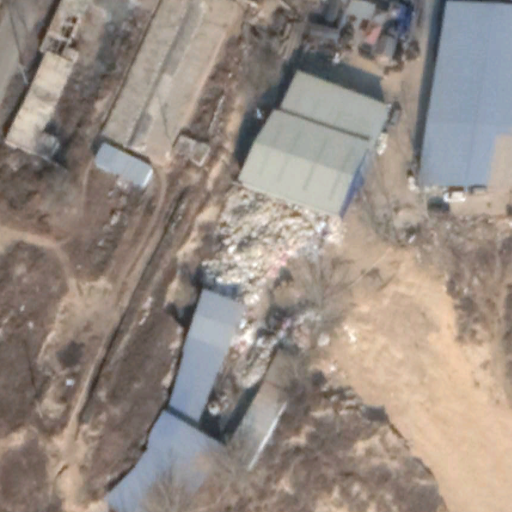msw: (208, 189, 327, 299)
